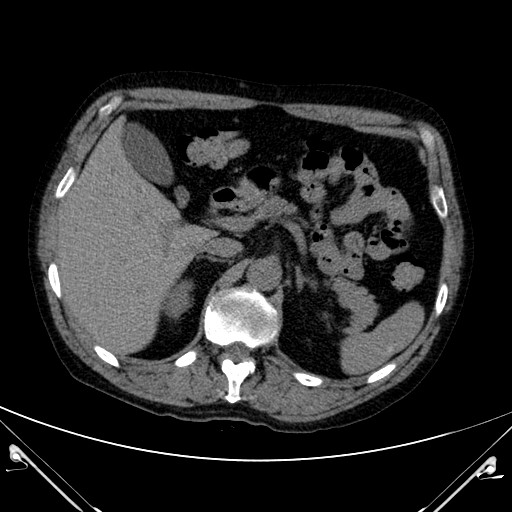vesicula: (119, 118, 178, 192)
